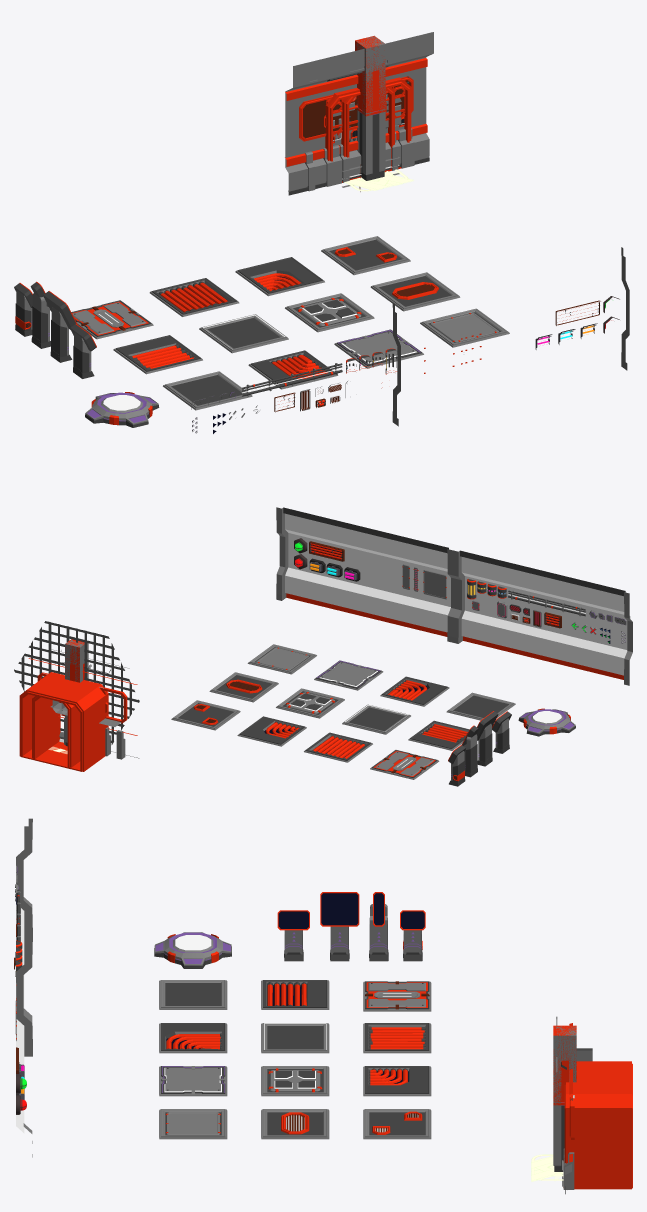
The model's file is modular-pieces.gltf.
The picture shows the model from 3 angles, top to bottom: view 1: azimuth 30°, elevation 25°; view 2: azimuth 150°, elevation 25°; view 3: azimuth 270°, elevation 25°; orthographic projection. The views are drawn at different scales.
Parts seen in each view (by area): view 1: Window_Wall_SideA, DoorDouble_Wall_SideA, Window_Wall_SideB, DoorSingle_Wall_SideA, Column_2, Column_1, RoofTile_Pipes1, RoofTile_SmallVents, RoofTile_Corner_Pipes, RoofTile_Plate2, FloorTile_Empty, RoofTile_Sides_Pipes (+14 smaller); view 2: wall.scifi, DoorDoubleLong_Wall_SideA, hex-grill, DoorSingleLong_Wall_SideA, DoorDouble_Wall_SideA, RoofTile_InnerCorner_Pipes, RoofTile_Corner_Pipes, RoofTile_SmallVents, RoofTile_Plate, RoofTile_Plate2, RoofTile_OrangeVent, FloorTile_Basic (+17 smaller); view 3: DoorDoubleLong_Wall_SideA, DoorDouble_Wall_SideA, wall.scifi, RoofTile_SmallVents, RoofTile_Plate2, RoofTile_Pipes1, RoofTile_InnerCorner_Pipes, RoofTile_Corner_Pipes, FloorTile_Empty, FloorTile_Basic, RoofTile_Plate, RoofTile_OrangeVent (+11 smaller).
Boxes of the visible parts, bbox=[...] form: Window_Wall_SideA: bbox=[285, 39, 406, 195]; DoorDouble_Wall_SideA: bbox=[309, 33, 431, 188]; Window_Wall_SideB: bbox=[326, 32, 433, 183]; DoorSingle_Wall_SideA: bbox=[309, 33, 429, 188]; Column_2: bbox=[355, 36, 385, 177]; Column_1: bbox=[355, 36, 385, 180]; RoofTile_Pipes1: bbox=[149, 278, 239, 316]; RoofTile_SmallVents: bbox=[321, 236, 410, 275]; RoofTile_Corner_Pipes: bbox=[235, 257, 324, 296]; RoofTile_Plate2: bbox=[285, 293, 374, 332]; FloorTile_Empty: bbox=[199, 314, 288, 353]; RoofTile_Sides_Pipes: bbox=[113, 335, 202, 374]; wall.scifi: bbox=[276, 507, 632, 685]; DoorDoubleLong_Wall_SideA: bbox=[19, 674, 108, 771]; hex-grill: bbox=[14, 621, 139, 744]; DoorSingleLong_Wall_SideA: bbox=[32, 681, 88, 768]; DoorDouble_Wall_SideA: bbox=[40, 662, 117, 762]; RoofTile_InnerCorner_Pipes: bbox=[380, 676, 449, 706]; RoofTile_Corner_Pipes: bbox=[237, 716, 306, 746]; RoofTile_SmallVents: bbox=[171, 700, 240, 730]; RoofTile_Plate: bbox=[247, 644, 316, 674]; RoofTile_Plate2: bbox=[276, 688, 344, 718]; RoofTile_OrangeVent: bbox=[209, 672, 278, 702]; FloorTile_Basic: bbox=[314, 660, 383, 690]; DoorDoubleLong_Wall_SideA: bbox=[566, 1061, 632, 1189]; DoorDouble_Wall_SideA: bbox=[556, 1060, 597, 1190]; wall.scifi: bbox=[16, 818, 32, 1157]; RoofTile_SmallVents: bbox=[363, 1109, 431, 1139]; RoofTile_Plate2: bbox=[261, 1066, 329, 1096]; RoofTile_Pipes1: bbox=[363, 1023, 431, 1053]; RoofTile_InnerCorner_Pipes: bbox=[159, 1023, 227, 1053]; RoofTile_Corner_Pipes: bbox=[363, 1066, 431, 1096]; FloorTile_Empty: bbox=[261, 1023, 329, 1053]; FloorTile_Basic: bbox=[159, 1066, 227, 1096]; RoofTile_Plate: bbox=[159, 1109, 227, 1139]; RoofTile_OrangeVent: bbox=[261, 1109, 329, 1139].
Size of what is drawn, in the model's own units: 18.99 by 5.55 by 18.21.
13 materials, 6 textured.
